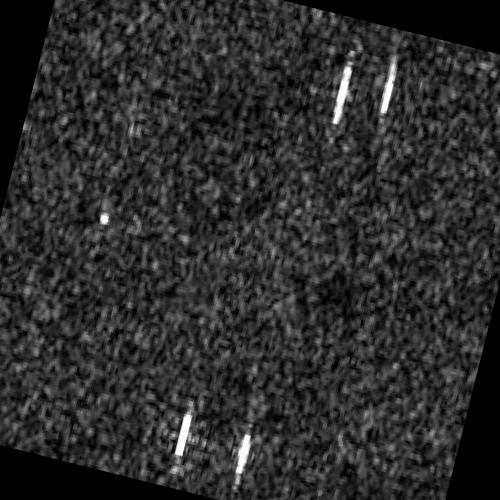ship: (332, 55, 354, 127), (379, 60, 398, 118), (172, 412, 194, 460), (234, 433, 252, 480), (98, 210, 110, 228)
